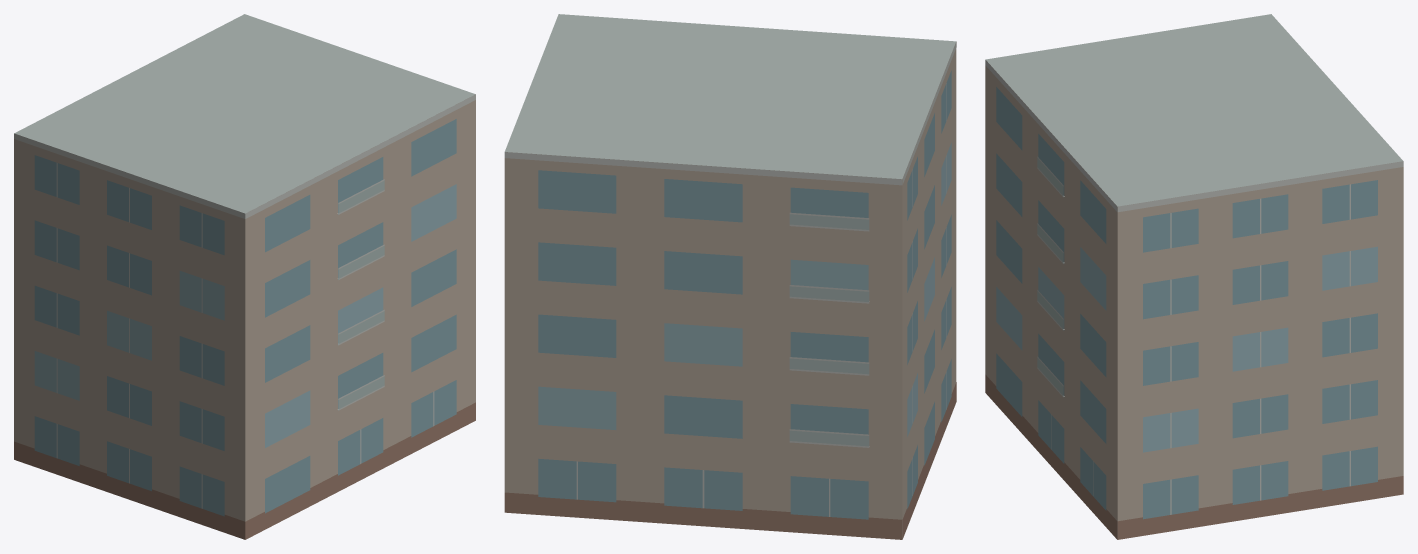
File: survey-upis-32850457.glb
3 renders of one model, left to right at view 1: azimuth 30°, elevation 25°; view 2: azimuth 150°, elevation 25°; view 3: azimuth 270°, elevation 25°, orthographic. The views are drawn at different scales.
Visible parts, largest first — view 1: survey-upis-32850457.tmp; view 2: survey-upis-32850457.tmp; view 3: survey-upis-32850457.tmp.
Part boxes in pixels (x1,y1,x2,y2): survey-upis-32850457.tmp: [14, 14, 475, 539]; survey-upis-32850457.tmp: [504, 14, 956, 539]; survey-upis-32850457.tmp: [985, 14, 1403, 539].
Size of the model in its own units: 17.61 by 14.2 by 16.15.
